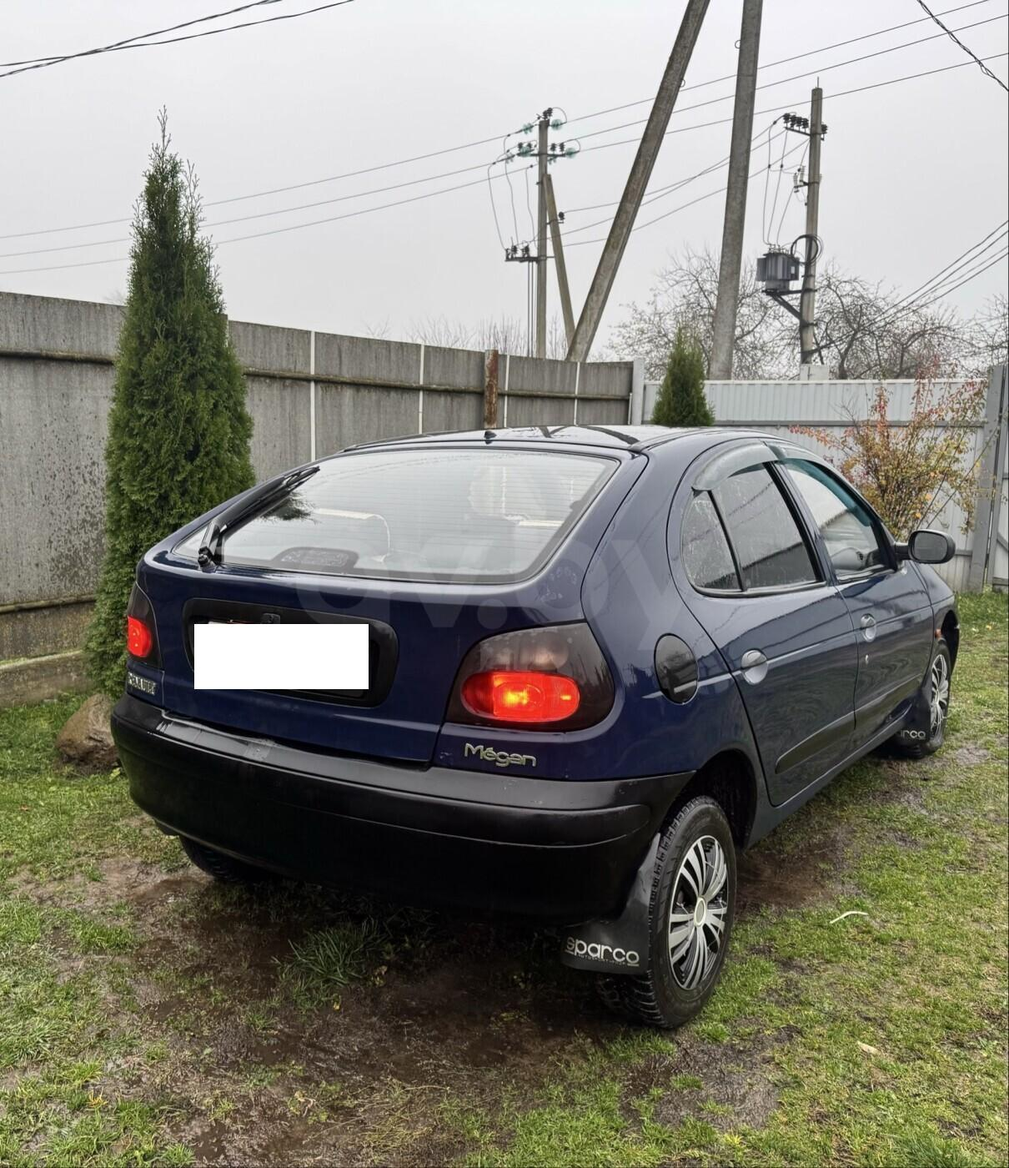Megane_1995-1999: (110, 415, 971, 1021)
